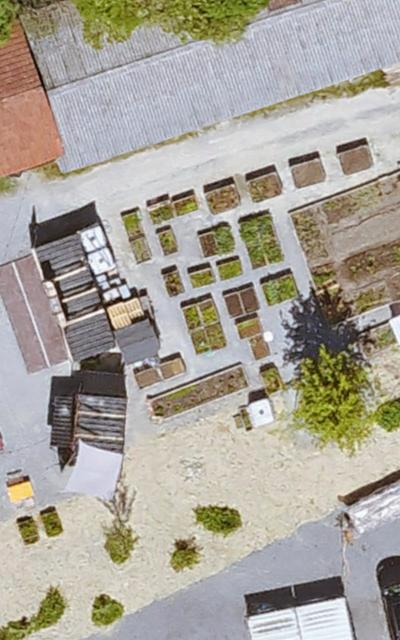tree: (293, 352, 371, 451), (198, 505, 240, 535)
